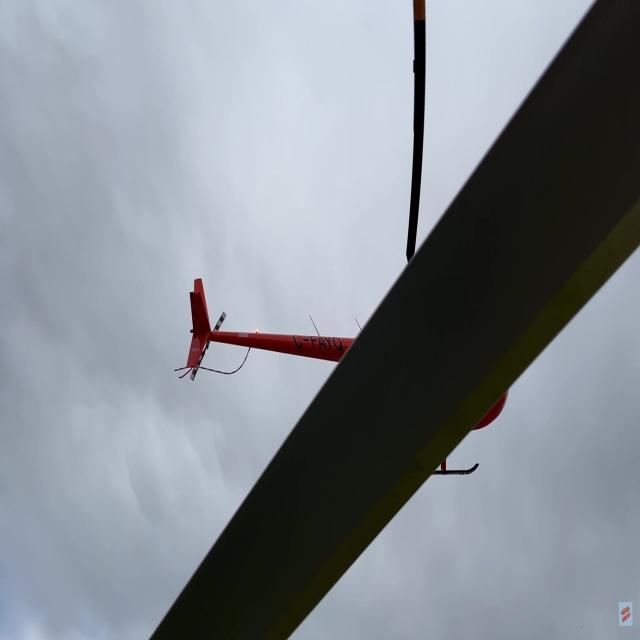CIV_HELO: (188, 258, 524, 478)
